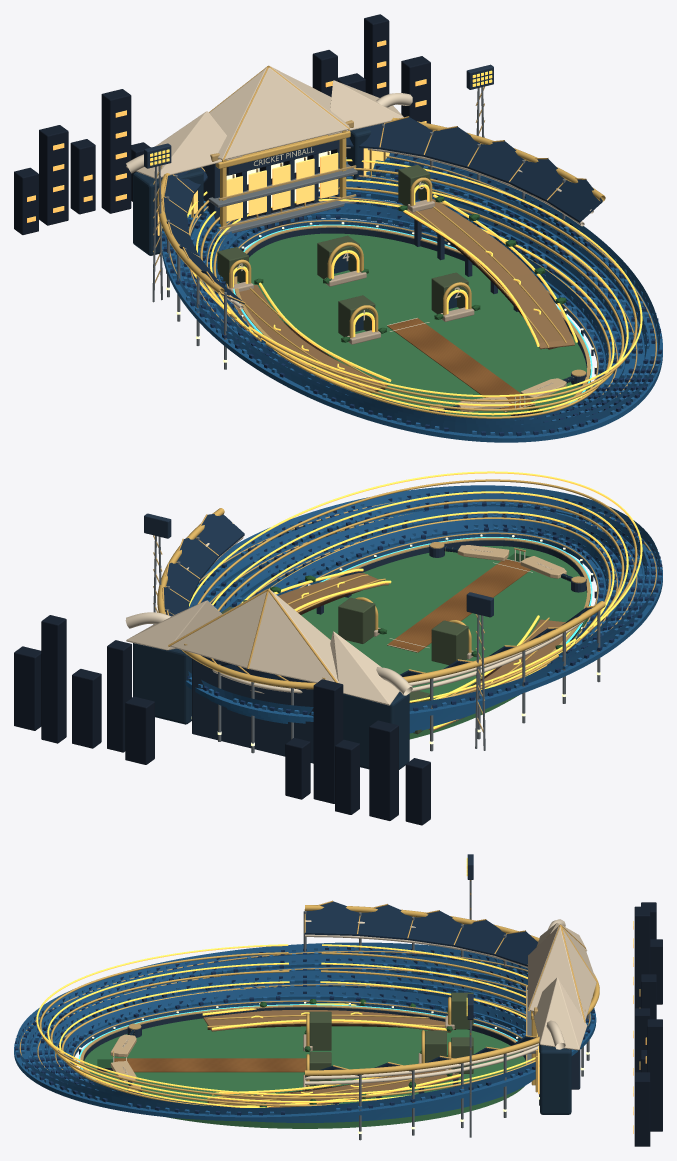
File: cricket-stadium-colosseum-r9.glb
3 views of the same model, one above another, from view 1: azimuth 30°, elevation 25°; view 2: azimuth 150°, elevation 25°; view 3: azimuth 270°, elevation 25° (orthographic). The views are drawn at different scales.
Parts seen in each view (by area): view 1: Arena_Field_Substrate, Individual_Seats_0, Individual_Seats_1, R9_Six_Lane, R9_Pavilion_Tensile_0, Crowd_Band_09, Seating_Terrace_09, Crowd_Band_04, Crowd_Band_07, R9_City_3, Measured_Pitch, Crowd_Band_01 (+55 smaller); view 2: Arena_Field_Substrate, Crowd_Band_09, Pavilion_Shell, Individual_Seats_1, Individual_Seats_0, Crowd_Band_07, Crowd_Band_04, R7_Pavilion_Wing_Mass_1, R9_Pavilion_Tensile_3, Crowd_Band_01, R9_Pavilion_Tensile_2, R9_City_8 (+46 smaller); view 3: Arena_Field_Substrate, Crowd_Band_09, Crowd_Band_07, Seating_Terrace_09, Crowd_Band_04, Individual_Seats_1, Individual_Seats_0, Crowd_Band_01, Measured_Pitch, R7_Tier_Rail_2, R9_Tier_Warm_Band_2, R7_Upper_Fascia_2 (+46 smaller).
Part boxes in pixels (bbox=[...]): Arena_Field_Substrate: bbox=[237, 233, 590, 416]; Individual_Seats_0: bbox=[162, 155, 661, 436]; Individual_Seats_1: bbox=[162, 153, 662, 436]; R9_Six_Lane: bbox=[403, 199, 574, 349]; R9_Pavilion_Tensile_0: bbox=[224, 67, 348, 159]; Crowd_Band_09: bbox=[164, 153, 659, 435]; Seating_Terrace_09: bbox=[162, 157, 662, 442]; Crowd_Band_04: bbox=[198, 181, 627, 424]; Crowd_Band_07: bbox=[180, 157, 646, 427]; R9_City_3: bbox=[101, 89, 131, 213]; Measured_Pitch: bbox=[387, 318, 534, 412]; Crowd_Band_01: bbox=[216, 203, 607, 420]; Arena_Field_Substrate: bbox=[301, 546, 590, 739]; Crowd_Band_09: bbox=[188, 485, 659, 714]; Pavilion_Shell: bbox=[192, 655, 313, 763]; Individual_Seats_1: bbox=[187, 490, 662, 714]; Individual_Seats_0: bbox=[188, 490, 662, 715]; Crowd_Band_07: bbox=[189, 493, 646, 671]; Crowd_Band_04: bbox=[215, 506, 627, 676]; R7_Pavilion_Wing_Mass_1: bbox=[133, 643, 191, 724]; R9_Pavilion_Tensile_3: bbox=[249, 592, 334, 682]; Crowd_Band_01: bbox=[270, 519, 607, 665]; R9_Pavilion_Tensile_2: bbox=[170, 591, 266, 668]; R9_City_8: bbox=[41, 615, 66, 743]; Arena_Field_Substrate: bbox=[80, 1018, 525, 1128]; Crowd_Band_09: bbox=[16, 942, 593, 1114]; Crowd_Band_07: bbox=[28, 954, 527, 1107]; Seating_Terrace_09: bbox=[14, 952, 596, 1121]; Crowd_Band_04: bbox=[46, 970, 525, 1107]; Individual_Seats_1: bbox=[15, 947, 594, 1115]; Individual_Seats_0: bbox=[15, 947, 595, 1115]; Crowd_Band_01: bbox=[64, 986, 525, 1107]; Measured_Pitch: bbox=[114, 1058, 306, 1072]; R7_Tier_Rail_2: bbox=[39, 952, 535, 1099]; R9_Tier_Warm_Band_2: bbox=[36, 944, 535, 1095]; R7_Upper_Fascia_2: bbox=[305, 905, 599, 1076].
Size of the model in its own units: 11.82 by 4.7 by 18.3.
Materials: 31 (2 with a texture image).
